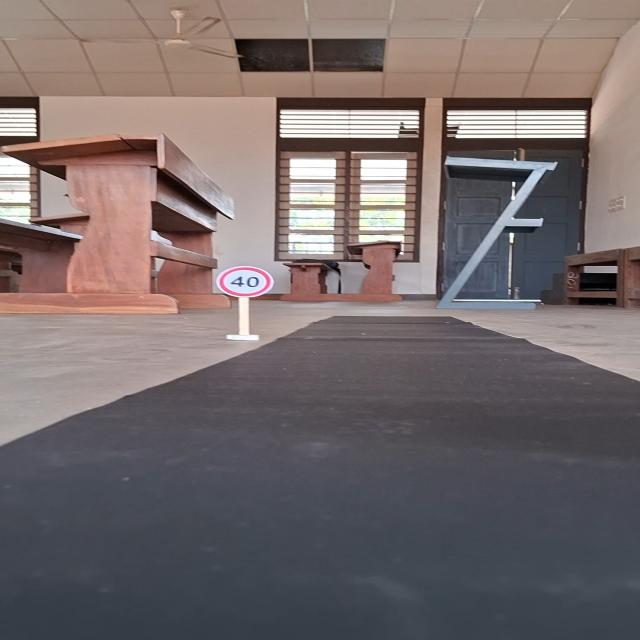Speed40: (214, 264, 276, 300)
